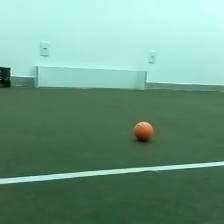ball: (132, 119, 155, 143)
goal: (32, 63, 148, 92)
robot: (1, 65, 13, 89)
